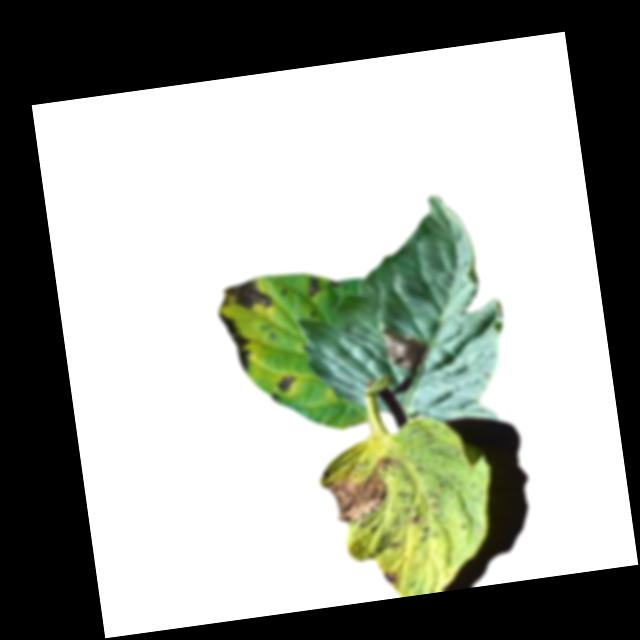Early_blight: (317, 453, 406, 526), (378, 323, 430, 375), (216, 308, 254, 373), (214, 275, 275, 315), (274, 370, 301, 391), (380, 564, 400, 588), (304, 274, 322, 298)
